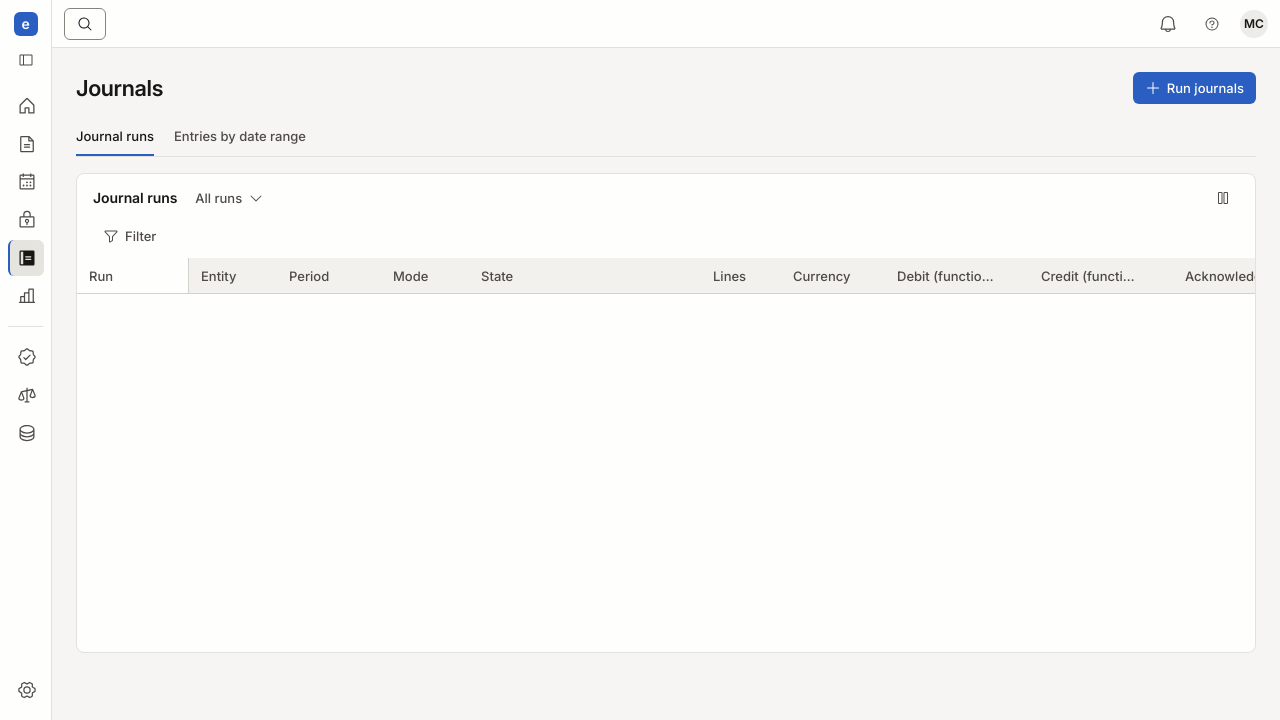
SF-06 Run journals › the second entity gets no answer: the next press replays the first entity's start under its key and starts the second
Click the button "Run journals".
click(1194, 88)  # box [1133,72,1256,104]
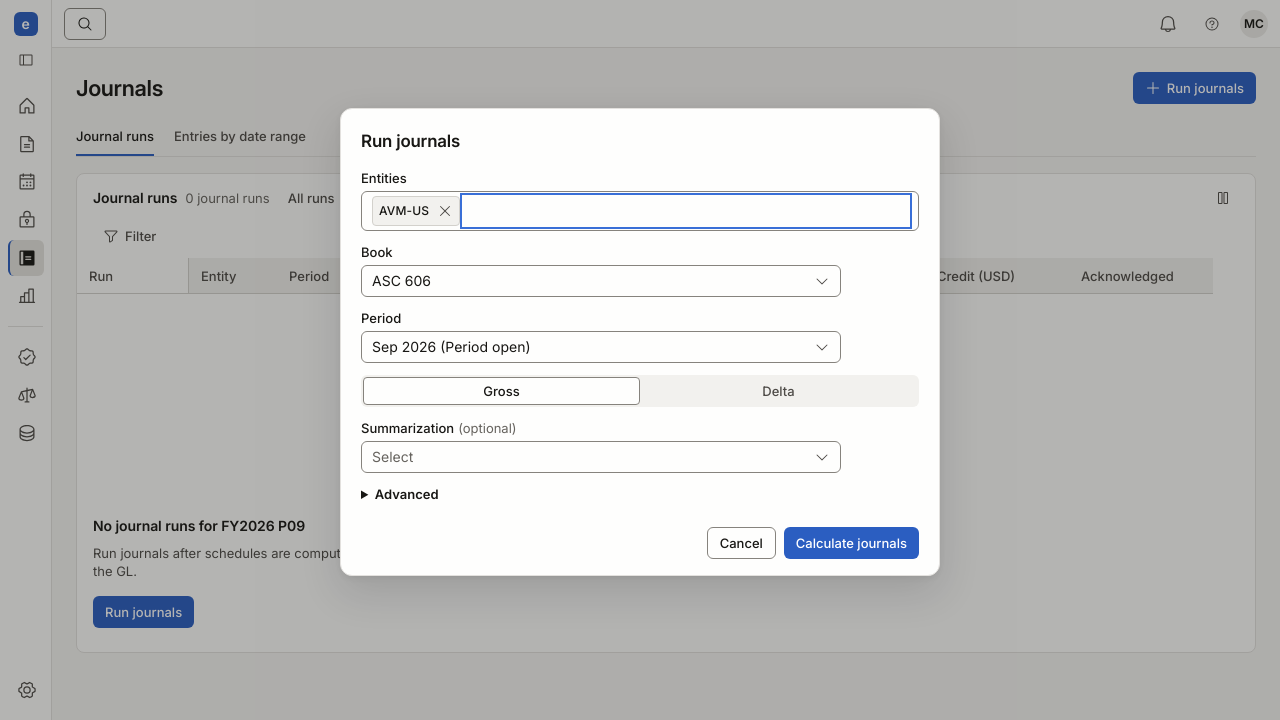
Type "AVM-DE" into the dropdown labelled "Entities".
click(686, 211); type("AVM-DE")  # box [464,197,908,225]
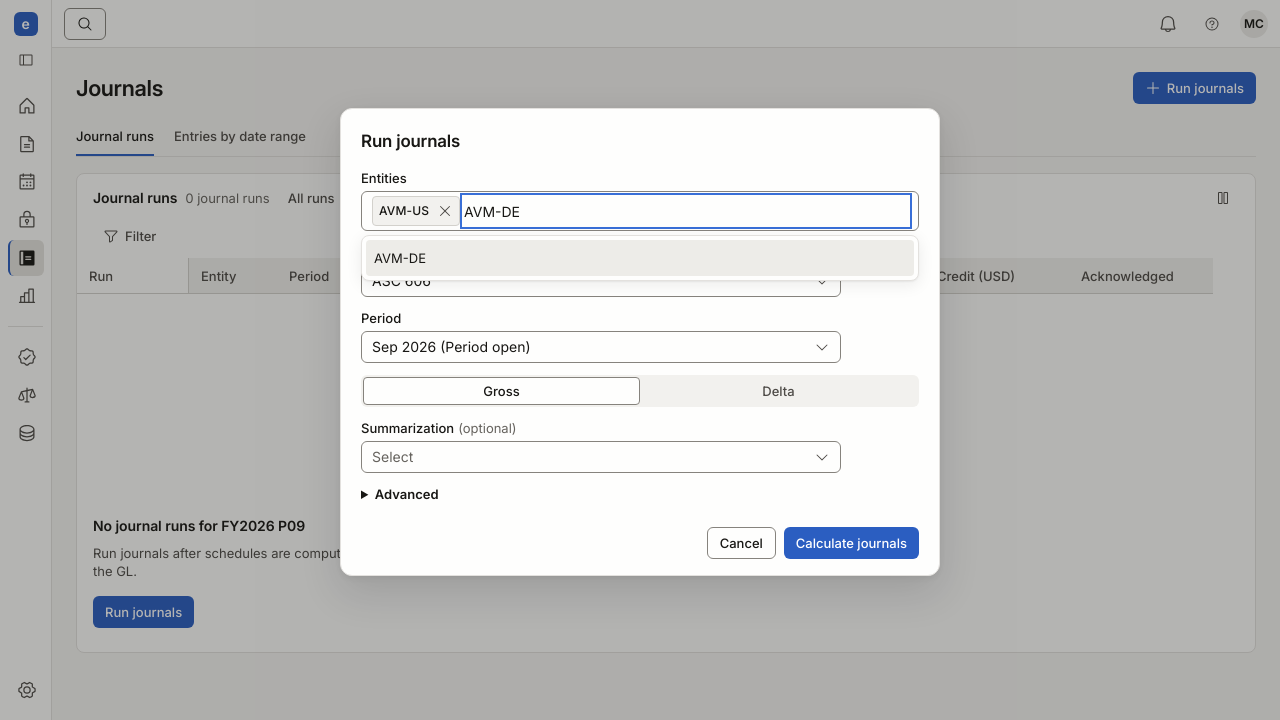
Press the mouse on the option "AVM-DE" at point(400, 258), box [366,240,914,276]
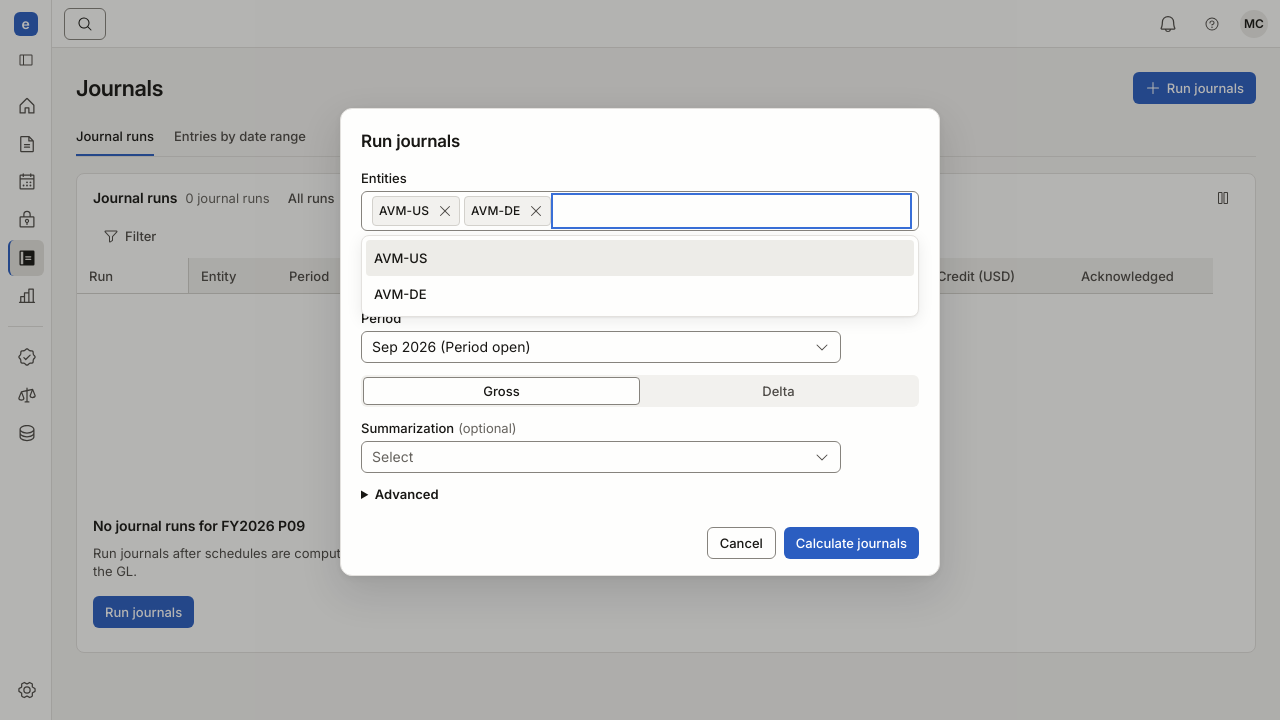
Expected: the dropdown labelled "Sep 2026 (Period open)" is shown, [361,331,841,363]
Click the button "Calculate journals".
click(851, 543)  # box [784,527,919,559]
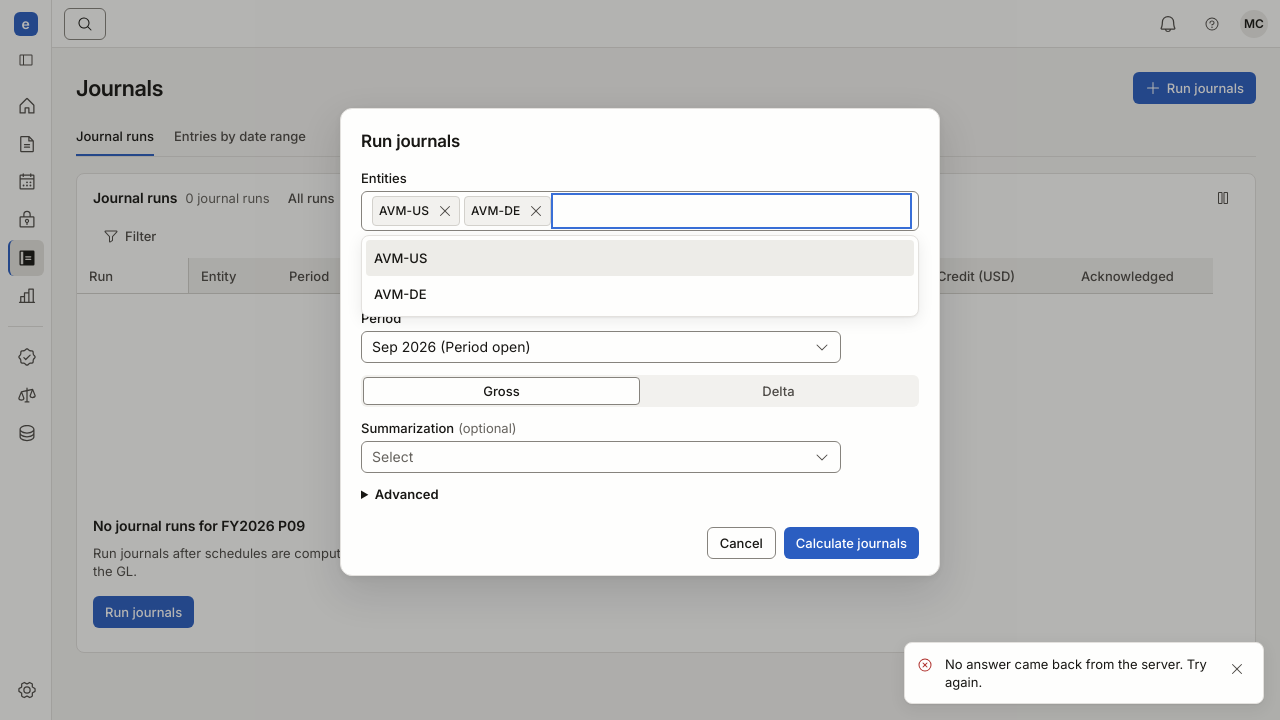
Expected: the dialog "Run journals" is shown, [340,108,940,576]
Expected: the text "No answer came back from the server. Try again." is shown, [945,655,1211,691]
Click the button "Calculate journals".
click(851, 543)  # box [784,527,919,559]
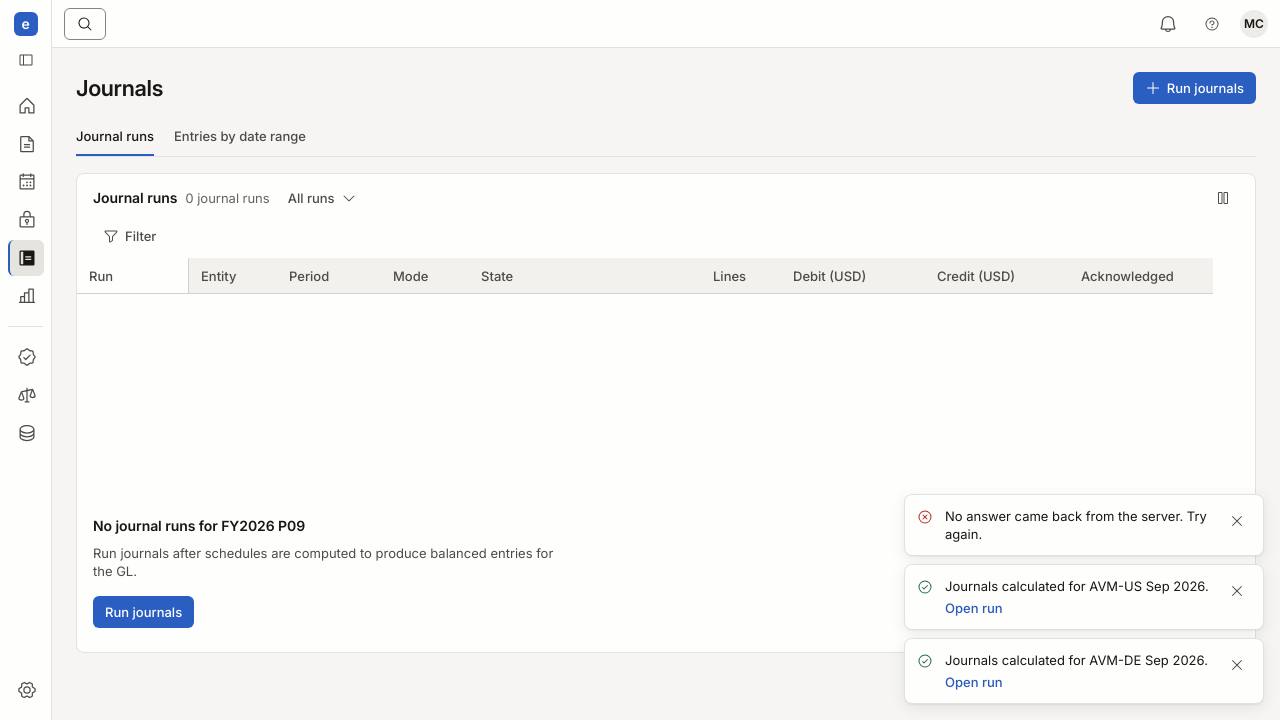
Expected: the text "Journals calculated for AVM-US Sep 2026." is shown once, [945,577,1209,595]
Expected: the text "Journals calculated for AVM-DE Sep 2026." is shown once, [945,651,1208,669]
